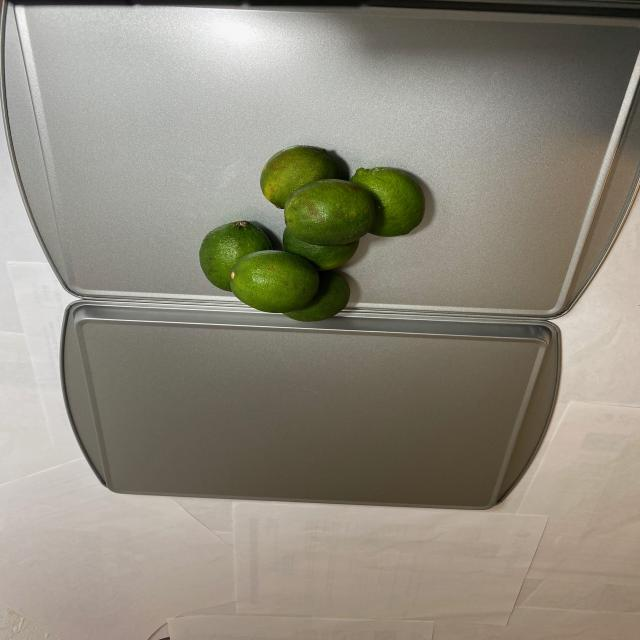lemon: (185, 138, 431, 325)
